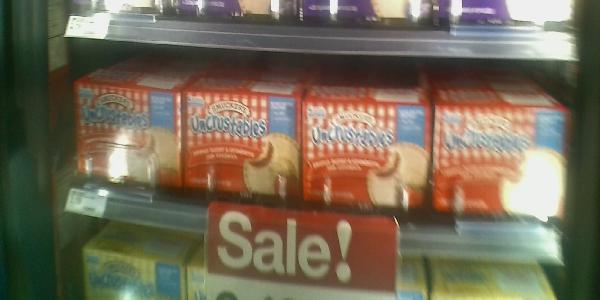icecream: (434, 101, 572, 219), (303, 91, 431, 216), (184, 85, 303, 205), (73, 77, 183, 199)
